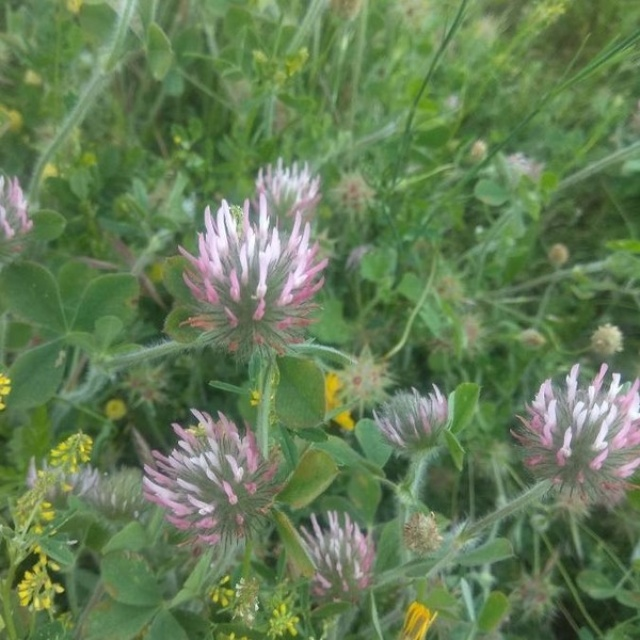obstacle: (144, 190, 582, 605)
